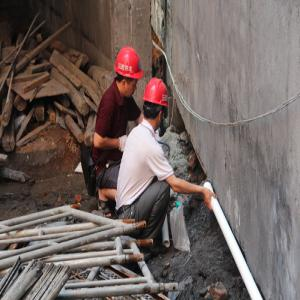red: (115, 46, 142, 98), (144, 79, 170, 125)
